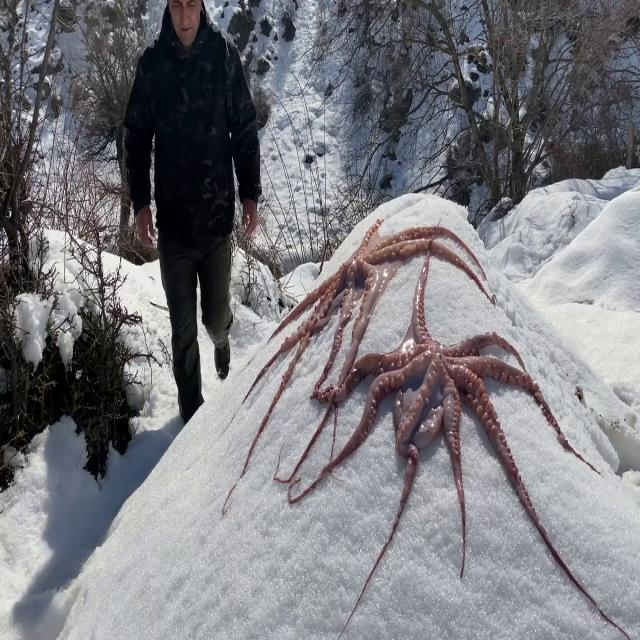octopus: (290, 238, 626, 634), (237, 213, 489, 467)
